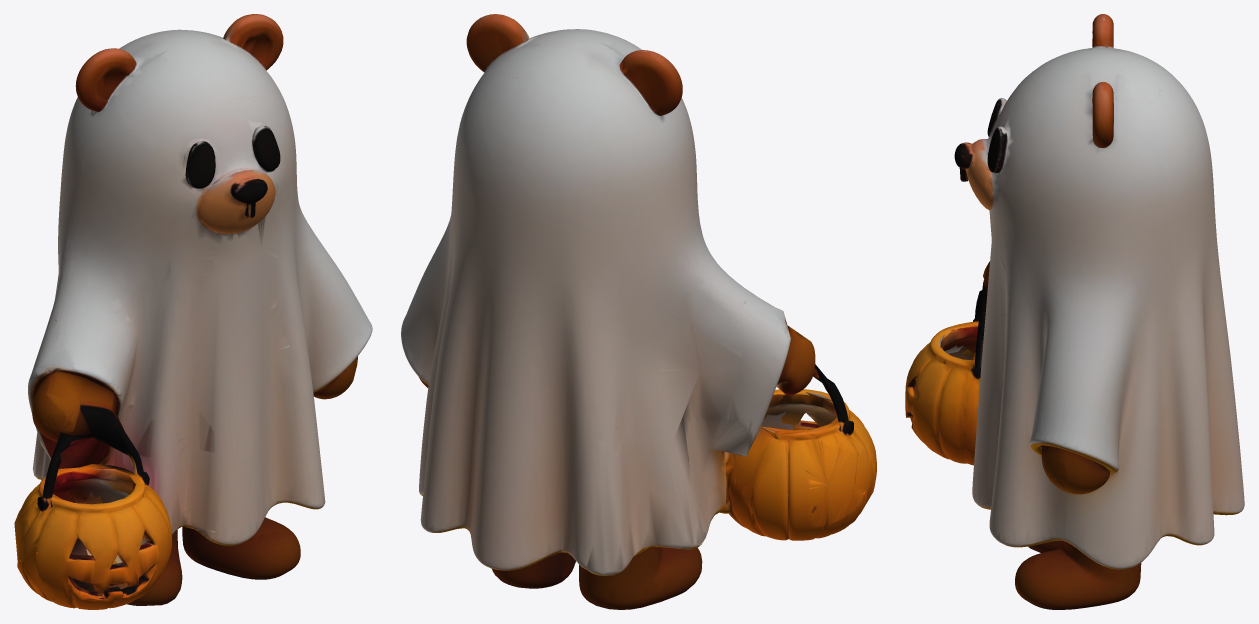
3 renders of one model, left to right at view 1: azimuth 30°, elevation 25°; view 2: azimuth 150°, elevation 25°; view 3: azimuth 270°, elevation 25°, orthographic. The views are drawn at different scales.
Visible parts, largest first — view 1: texture_pbr_v128; view 2: texture_pbr_v128; view 3: texture_pbr_v128.
Part boxes in pixels (x1,y1,x2,y2): texture_pbr_v128: (14, 14, 372, 609); texture_pbr_v128: (401, 14, 876, 609); texture_pbr_v128: (905, 14, 1244, 609).
Bounding box in the file's own units: 4.21 × 5.42 × 3.21.
1 material, 1 textured.
